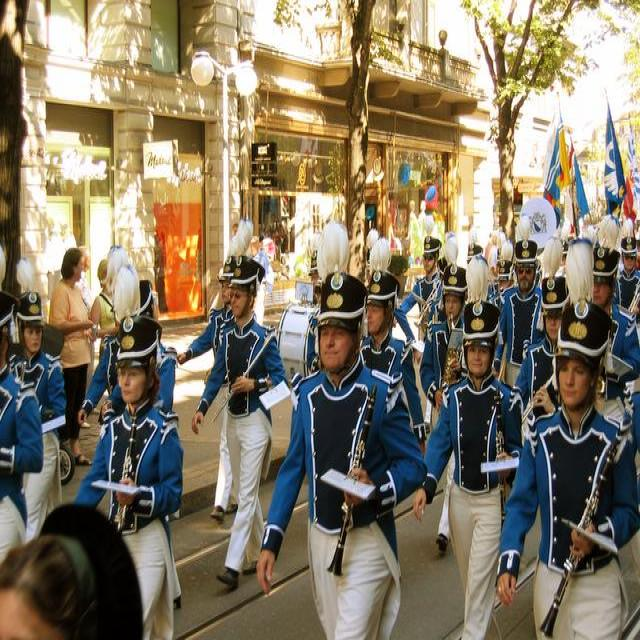clarinet: (534, 409, 636, 640), (322, 382, 383, 583), (108, 410, 138, 552), (491, 384, 513, 526)
